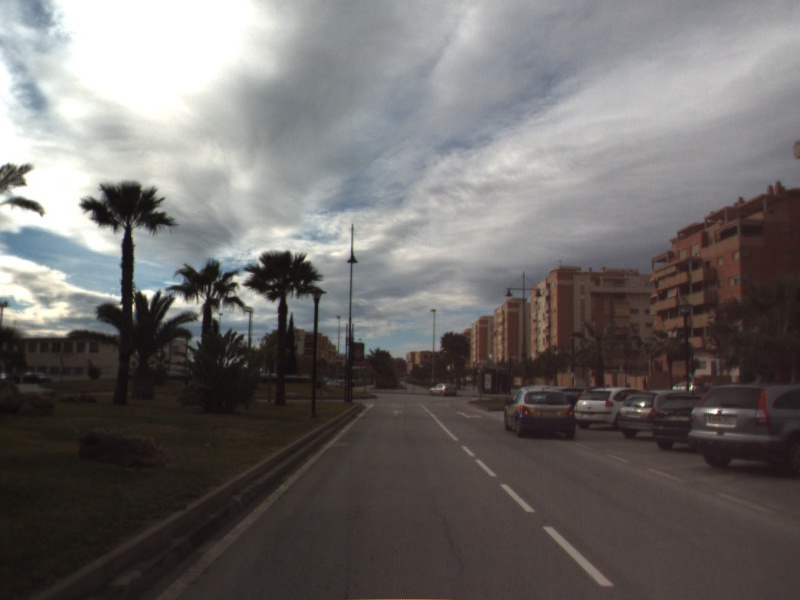STRAIGHT: (389, 408, 405, 418)
STRAIGHT_RIGHT: (455, 410, 484, 420)
